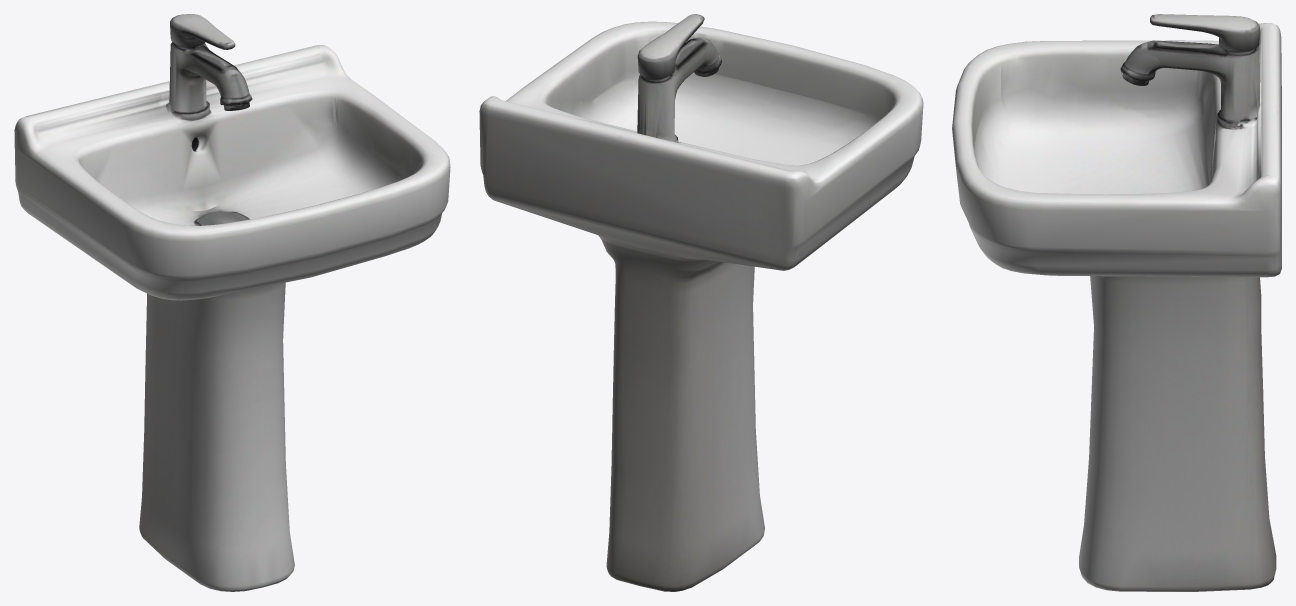
The model's file is wash_basin_realistic_style_d750ce2f_v1.glb.
3 renders of one model, left to right at view 1: azimuth 30°, elevation 25°; view 2: azimuth 150°, elevation 25°; view 3: azimuth 270°, elevation 25°, orthographic. The views are drawn at different scales.
Visible parts, largest first — view 1: mesh_input; view 2: mesh_input; view 3: mesh_input.
Part boxes in pixels (x1,y1,x2,y2): mesh_input: (14,14,450,591); mesh_input: (479,14,923,591); mesh_input: (952,14,1281,591).
Bounding box in the file's own units: 1.21 × 1.9 × 1.03.
Materials: 1 (1 with a texture image).
